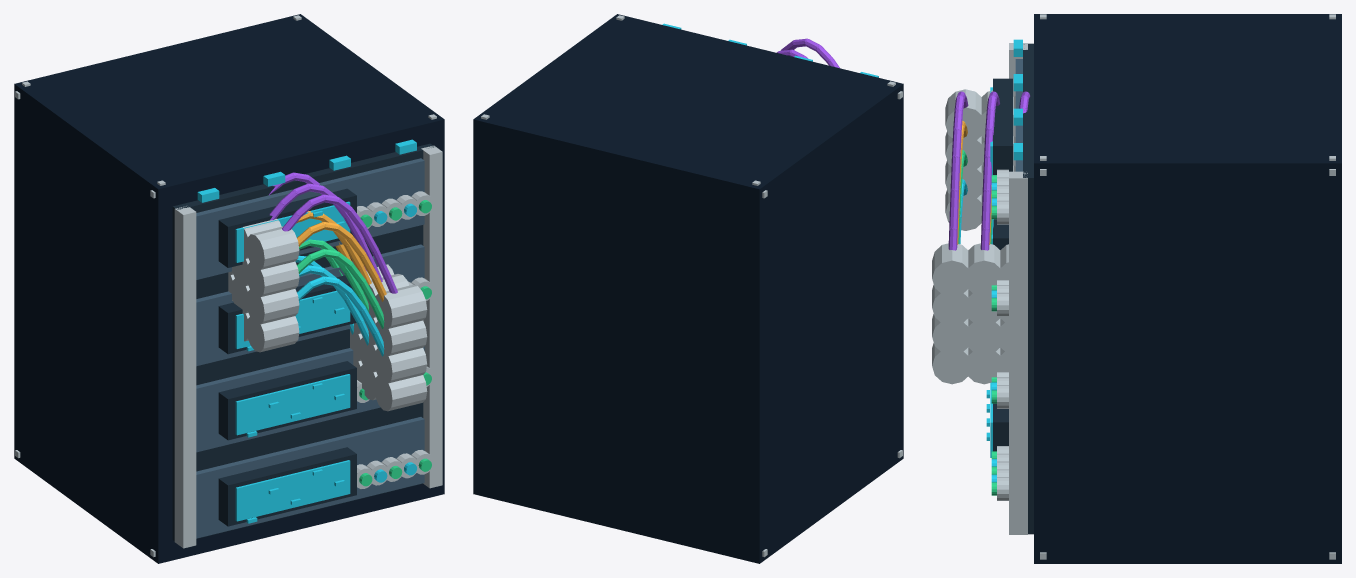
Rendered from 08_L80_OpticalFiberRibbonCassette.fbx.
3 views of the same model, side by side, from view 1: azimuth 30°, elevation 25°; view 2: azimuth 150°, elevation 25°; view 3: azimuth 270°, elevation 25° (orthographic). The views are drawn at different scales.
Visible parts, largest first — view 1: OpticalFiberRibbonCassette; view 2: OpticalFiberRibbonCassette; view 3: OpticalFiberRibbonCassette.
Part boxes in pixels (bbox=[...]): OpticalFiberRibbonCassette: bbox=[14, 14, 444, 563]; OpticalFiberRibbonCassette: bbox=[473, 14, 903, 563]; OpticalFiberRibbonCassette: bbox=[932, 14, 1341, 563].
Size of the model in its own units: 134 by 167 by 153.
